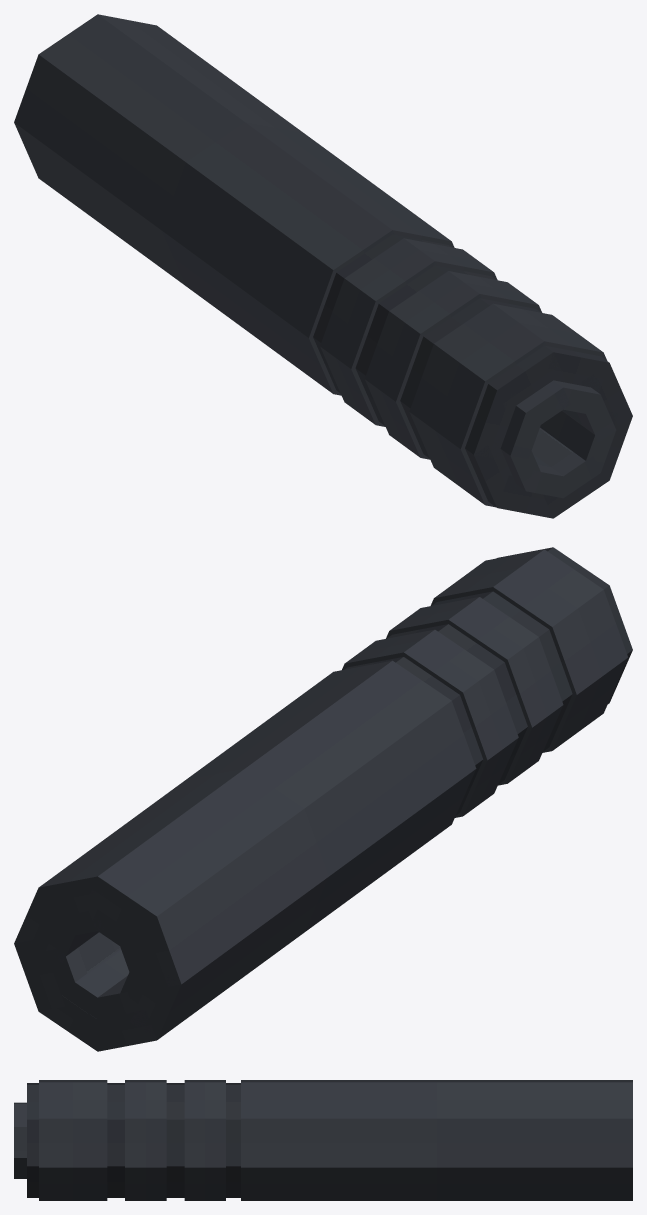
Rendered from glock_17_muzzle_silencer.fbx.
The picture shows the model from 3 angles, top to bottom: view 1: azimuth 30°, elevation 25°; view 2: azimuth 150°, elevation 25°; view 3: azimuth 270°, elevation 25°; orthographic projection. The views are drawn at different scales.
Parts seen in each view (by area): view 1: octagon_32, octagon_33, octagon, octagon_35, octagon_36, octagon_48, octagon_51, octagon_16, octagon_24, octagon_17, octagon_25, octagon_49 (+17 smaller); view 2: octagon_32, octagon_33, octagon, octagon_35, octagon_36, octagon_51, octagon_16, octagon_24, octagon_25, octagon_17, octagon_48, octagon_38 (+16 smaller); view 3: octagon_37, octagon_36, octagon_30, octagon, octagon_52, octagon_49, octagon_21, octagon_29, octagon_53, octagon_20, octagon_28, octagon_14 (+5 smaller).
Boxes of the visible parts, <box> form: octagon_32: <box>14,54,337,338</box>; octagon_33: <box>39,14,394,271</box>; octagon: <box>409,303,607,507</box>; octagon_35: <box>14,122,335,393</box>; octagon_36: <box>98,14,451,245</box>; octagon_48: <box>336,234,564,416</box>; octagon_51: <box>313,273,524,459</box>; octagon_16: <box>365,311,424,402</box>; octagon_24: <box>320,278,379,369</box>; octagon_17: <box>389,271,481,336</box>; octagon_25: <box>345,238,436,304</box>; octagon_49: <box>393,234,609,392</box>; octagon_32: <box>130,701,476,989</box>; octagon_33: <box>86,660,451,941</box>; octagon: <box>430,549,627,752</box>; octagon_35: <box>130,769,475,1039</box>; octagon_36: <box>38,660,391,917</box>; octagon_51: <box>452,585,632,765</box>; octagon_16: <box>503,637,563,728</box>; octagon_24: <box>458,670,518,761</box>; octagon_25: <box>402,630,493,693</box>; octagon_17: <box>448,597,538,662</box>; octagon_48: <box>396,547,609,700</box>; octagon_38: <box>45,932,120,994</box>; octagon_37: <box>241,1118,632,1167</box>; octagon_36: <box>241,1082,632,1118</box>; octagon_30: <box>241,1167,632,1200</box>; octagon: <box>39,1080,107,1200</box>; octagon_52: <box>27,1119,240,1166</box>; octagon_49: <box>27,1085,240,1119</box>; octagon_21: <box>125,1118,166,1167</box>; octagon_29: <box>184,1118,225,1167</box>; octagon_53: <box>27,1166,240,1197</box>; octagon_20: <box>125,1082,166,1118</box>; octagon_28: <box>184,1082,225,1118</box>; octagon_14: <box>125,1167,166,1200</box>.
Bounding box in the file's own units: 16.91 × 16.91 × 81.41.
Materials: 2 (2 with a texture image).
